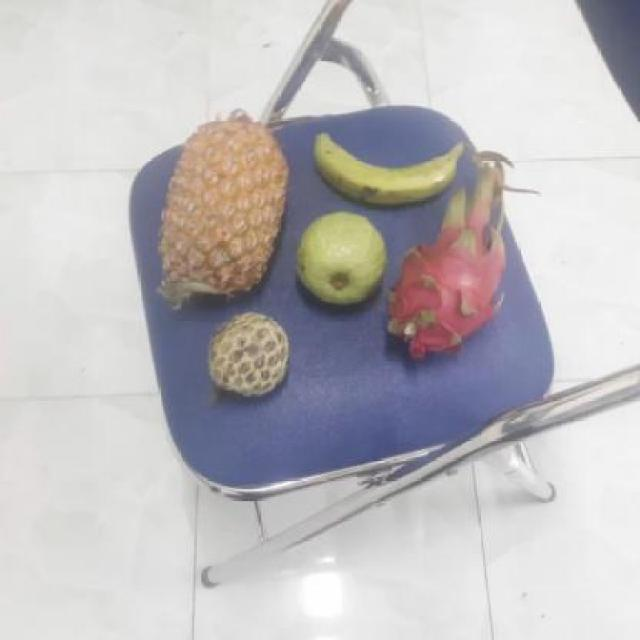dragon fruit: (382, 183, 507, 355)
guava: (290, 210, 388, 308)
pineapple: (153, 121, 290, 304)
sugar apple: (201, 313, 288, 398)
